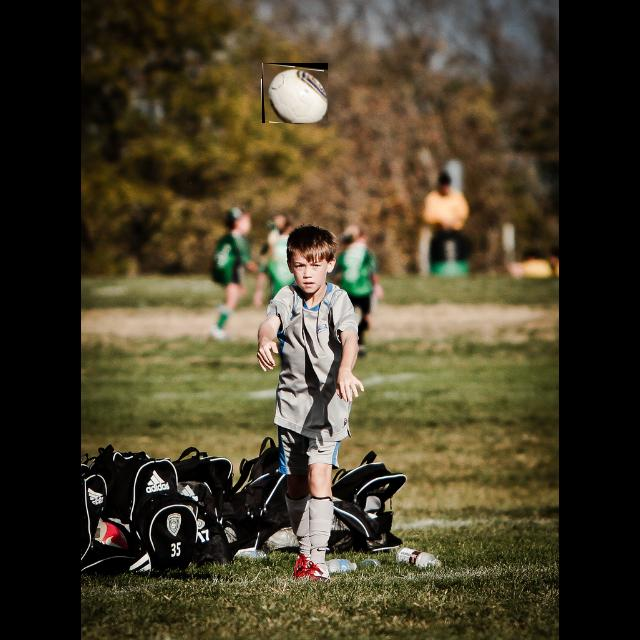Football: (262, 63, 328, 123)
